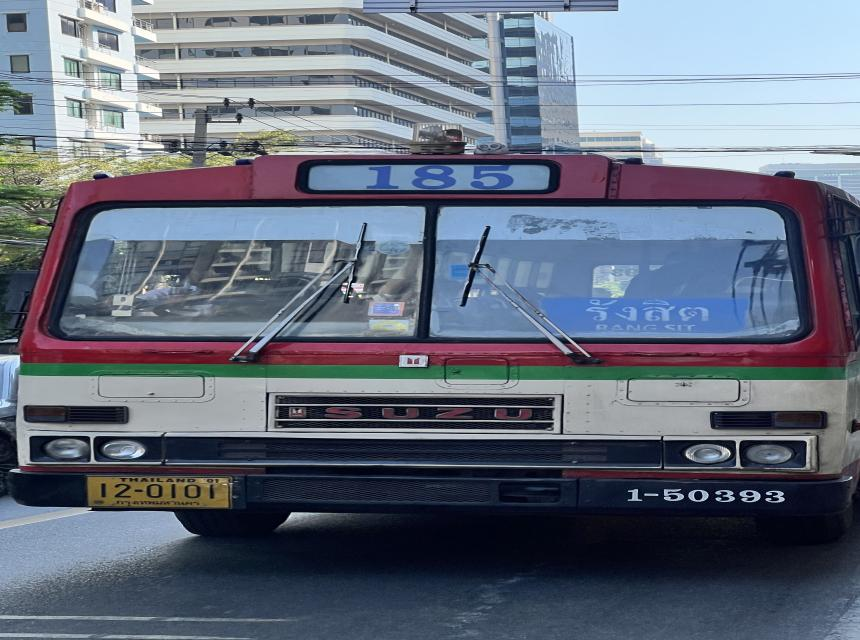BMTA-bus: (11, 151, 860, 546)
Bus Line Number: (300, 160, 552, 195)
Bus Side Number: (604, 481, 795, 506)
Destination Sign: (538, 298, 751, 336)
